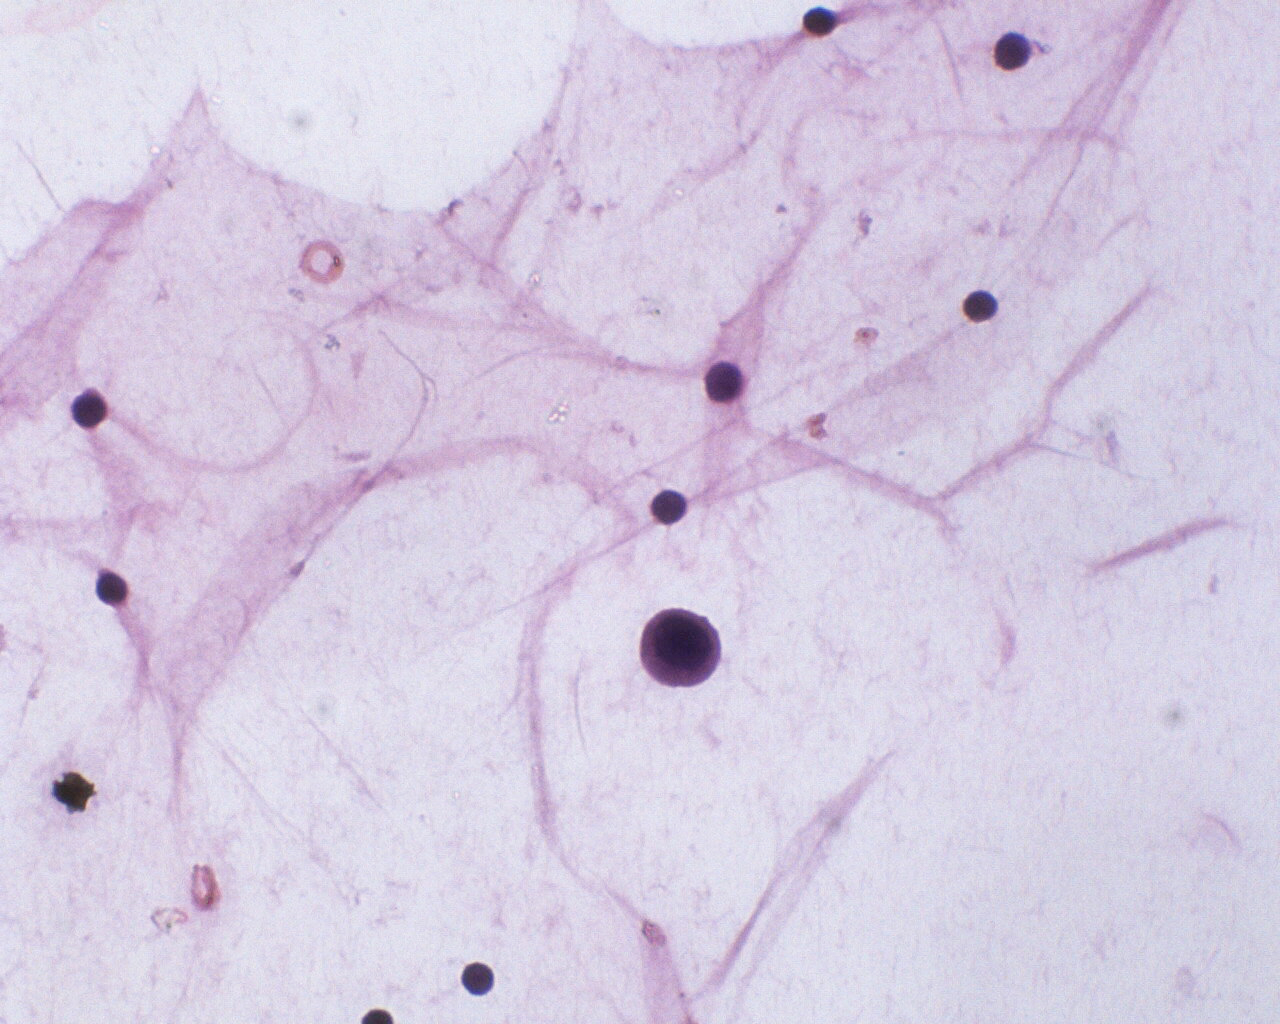ab: (637, 605, 727, 693)
lymph: (66, 381, 117, 434), (91, 564, 138, 612), (646, 487, 697, 531), (960, 282, 1006, 328), (990, 29, 1031, 76), (457, 956, 501, 996)
